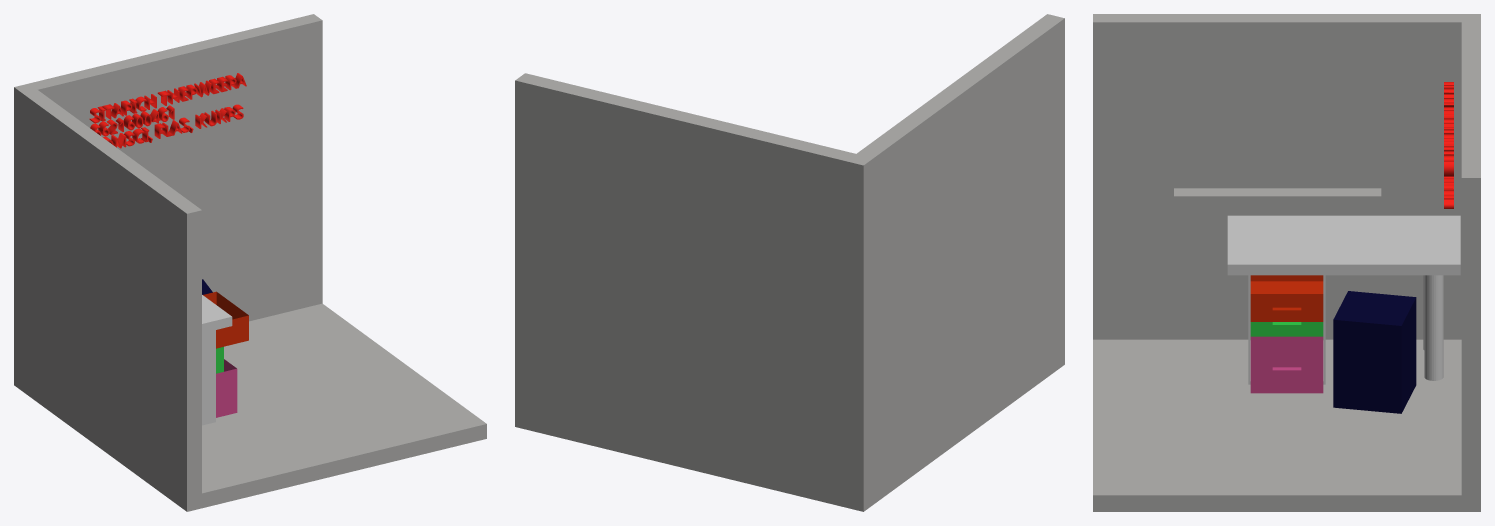
Rendered from home.obj.
3 views of the same model, side by side, from view 1: azimuth 30°, elevation 25°; view 2: azimuth 150°, elevation 25°; view 3: azimuth 270°, elevation 25° (orthographic). The views are drawn at different scales.
Visible parts, largest first — view 1: room, Text, drawerBody, drawer1, drawer3, table; view 2: room; view 3: room, table, Cube, drawer3, drawer1, leg2, Text, drawer2, drawerBody.
Part boxes in pixels (<box>): room: <box>14,14,486,511</box>; Text: <box>89,73,246,148</box>; drawerBody: <box>202,330,215,425</box>; drawer1: <box>203,291,248,348</box>; drawer3: <box>216,359,237,417</box>; table: <box>202,295,232,333</box>; room: <box>515,14,1064,511</box>; room: <box>1093,14,1480,511</box>; table: <box>1227,215,1460,275</box>; Cube: <box>1333,291,1416,413</box>; drawer3: <box>1250,336,1323,393</box>; drawer1: <box>1250,275,1323,321</box>; leg2: <box>1424,275,1443,380</box>; Text: <box>1444,82,1453,208</box>; drawer2: <box>1250,322,1323,336</box>; drawerBody: <box>1248,275,1325,384</box>.
Bounding box in the file's own units: 10 × 9.5 × 10.
